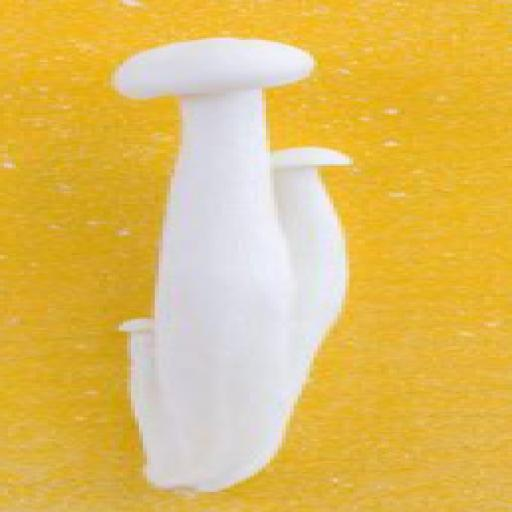Enoki Mushroom: (98, 24, 387, 502)
